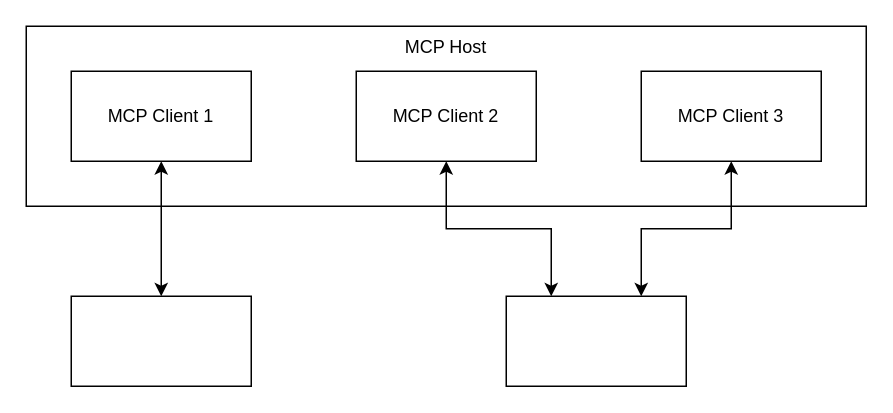
Some shapes in this 893 by 413 pixel diagram are drawn without their labels. The box of each missing label's shape, as (x1, y1, x2, y2) in pixels:
MCP Server A: (70, 295, 251, 386)
MCP Server B: (505, 295, 686, 386)
